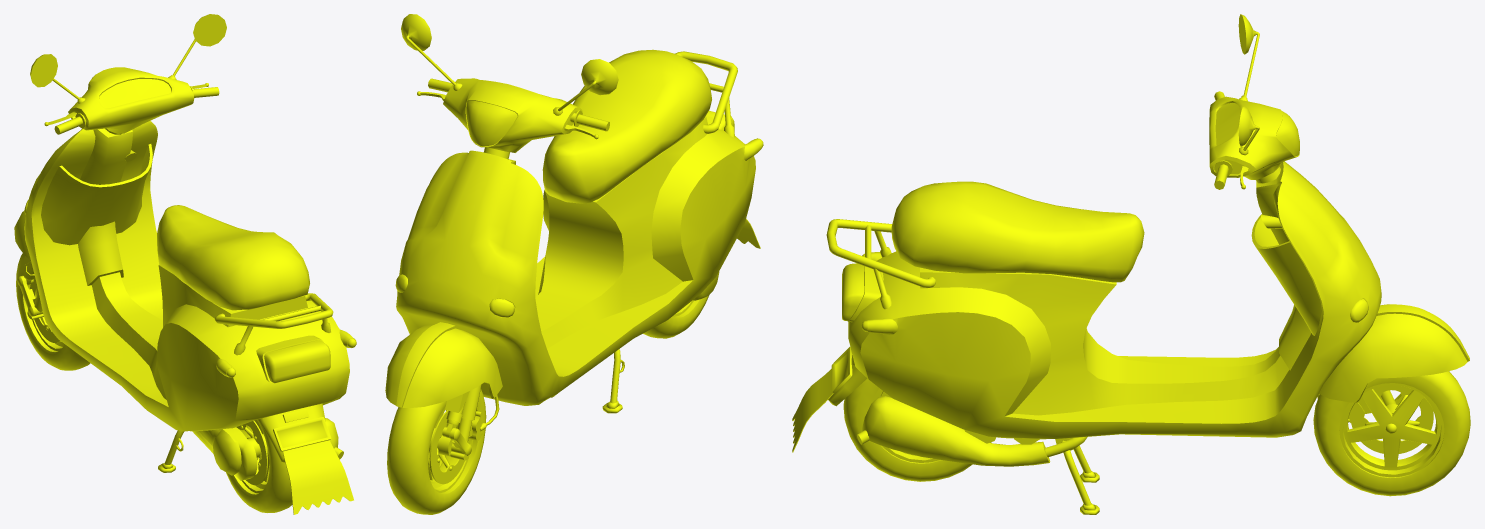
File: Scooter_A_Snaps004.FBX
3 renders of one model, left to right at view 1: azimuth 30°, elevation 25°; view 2: azimuth 150°, elevation 25°; view 3: azimuth 270°, elevation 25°, orthographic. The views are drawn at different scales.
Parts seen in each view (by area): view 1: Geometry_Scooter_A_LOD00, Geometry_Scooter_B_LOD00; view 2: Geometry_Scooter_A_LOD00, Geometry_Scooter_B_LOD00; view 3: Geometry_Scooter_A_LOD00, Geometry_Scooter_B_LOD00.
Boxes of the visible parts, box(x1,y1,x2,y2) form: Geometry_Scooter_A_LOD00: box(24, 121, 356, 514); Geometry_Scooter_B_LOD00: box(14, 14, 226, 370); Geometry_Scooter_A_LOD00: box(395, 49, 763, 413); Geometry_Scooter_B_LOD00: box(385, 14, 618, 514); Geometry_Scooter_A_LOD00: box(792, 161, 1381, 514); Geometry_Scooter_B_LOD00: box(1209, 14, 1470, 496).
Size of what is drawn, in the model's own units: 85.54 by 158 by 225.
